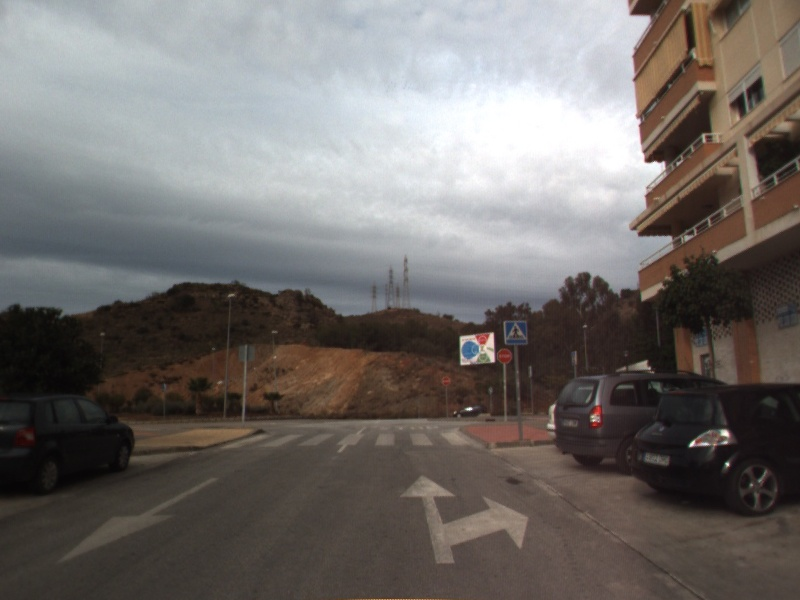STRAIGHT_RIGHT: (398, 473, 531, 566)
